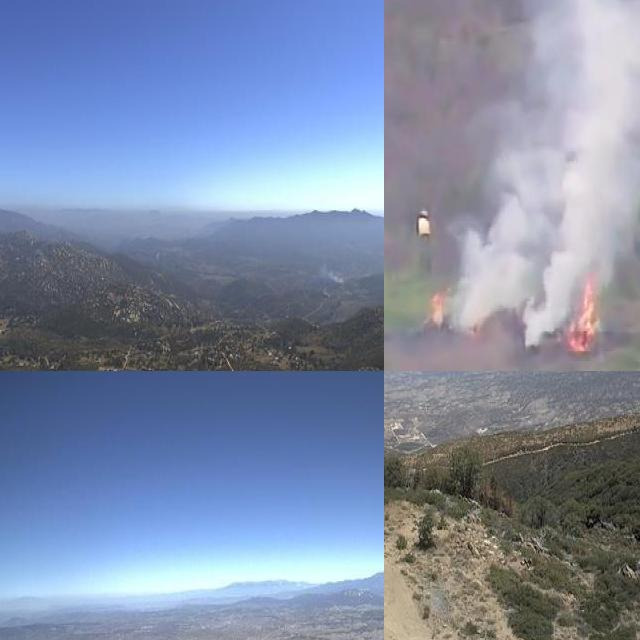smoke: (444, 0, 640, 348), (317, 262, 348, 289)
